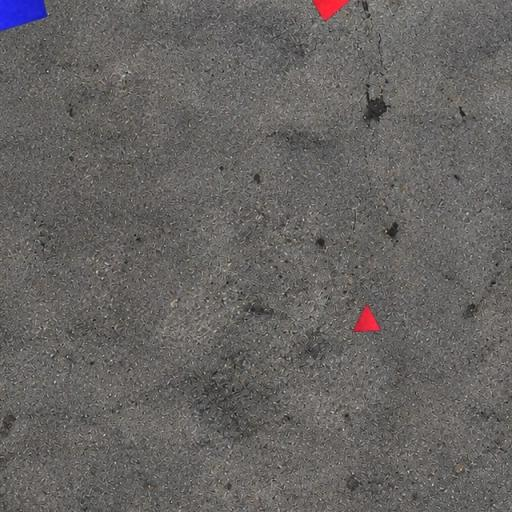RED_SQUARE: (303, 0, 357, 22)
